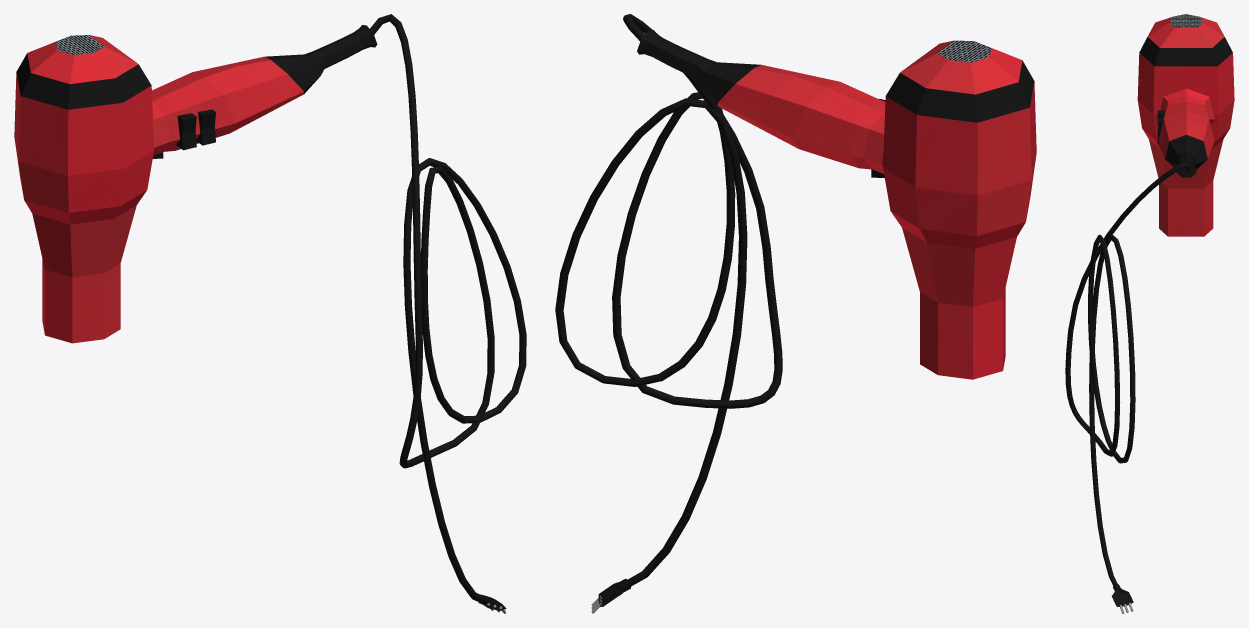
File: phon.fbx
The picture shows the model from 3 angles, left to right: view 1: azimuth 30°, elevation 25°; view 2: azimuth 150°, elevation 25°; view 3: azimuth 270°, elevation 25°; orthographic projection. The views are drawn at different scales.
Parts seen in each view (by area): view 1: phon, filo; view 2: phon, filo; view 3: phon, filo, spina.
Boxes of the visible parts, box(x1,y1,x2,y2) form: phon: box(14, 25, 377, 343); filo: box(370, 14, 526, 604); phon: box(637, 30, 1036, 379); filo: box(555, 14, 782, 591); phon: box(1137, 14, 1234, 236); filo: box(1065, 162, 1189, 592); spina: box(1111, 584, 1133, 613).
Size of the model in its own units: 49.57 by 63.51 by 21.3.
